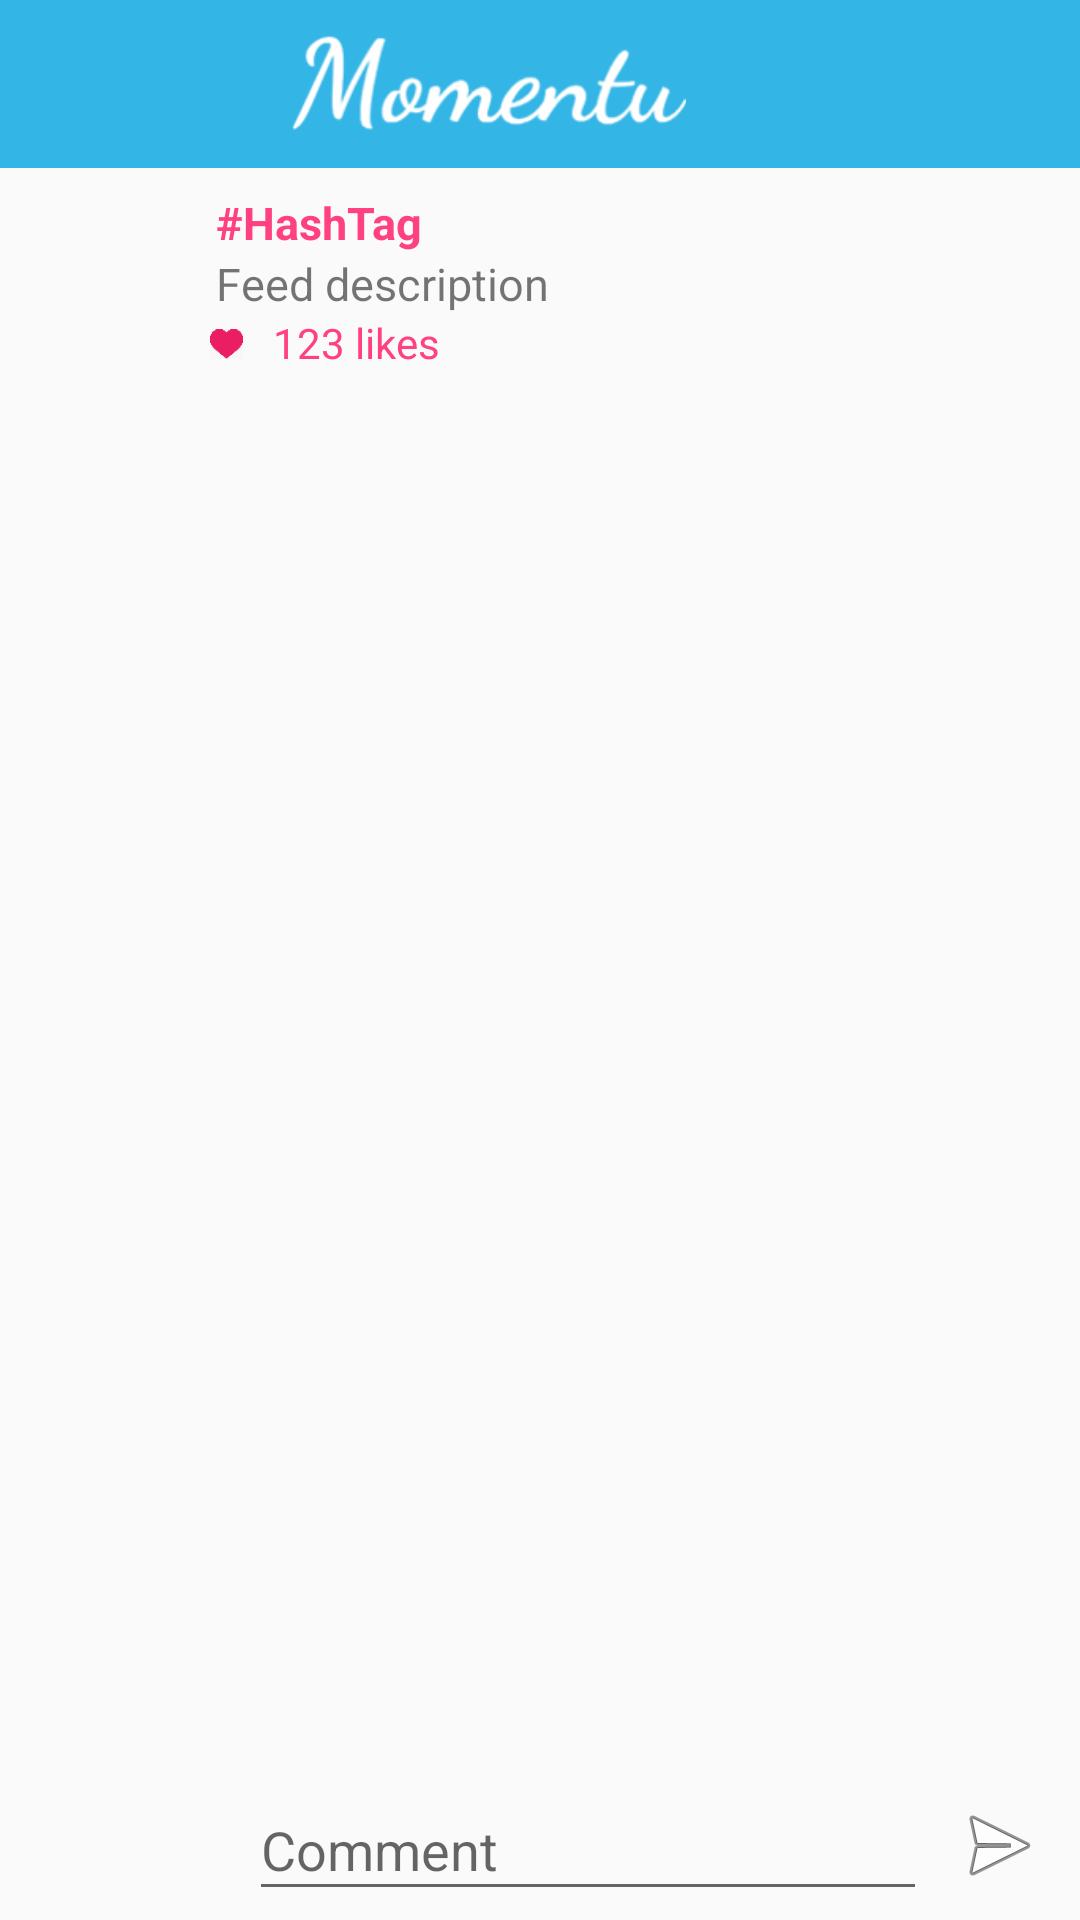

Named icons in this screenshot (1080 × 1920) and their bounding boxes, (x1, y1, x2, y2):
heart: (210, 329, 243, 359)
send: (969, 1815, 1031, 1876)
